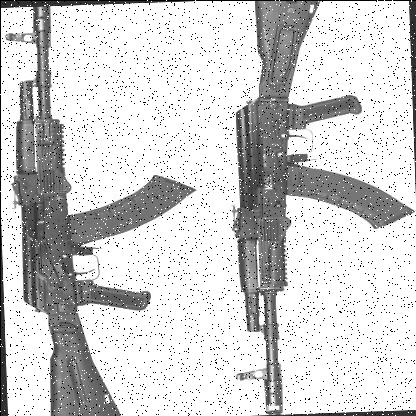rifle: (0, 0, 217, 416), (221, 0, 415, 414)
